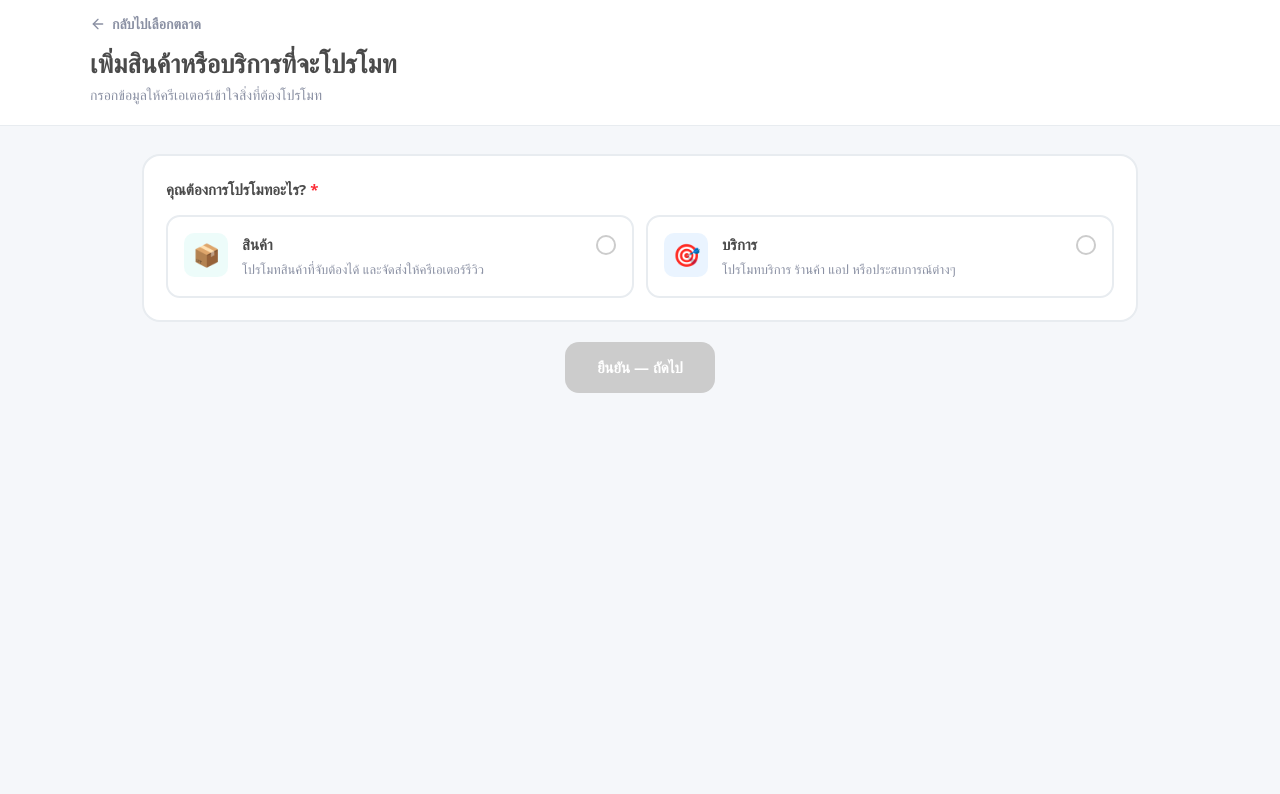
Scenario: AddProductPage › CTA is disabled during upload
Click the button "สินค้า".
click(206, 254)  # box [166,214,634,298]
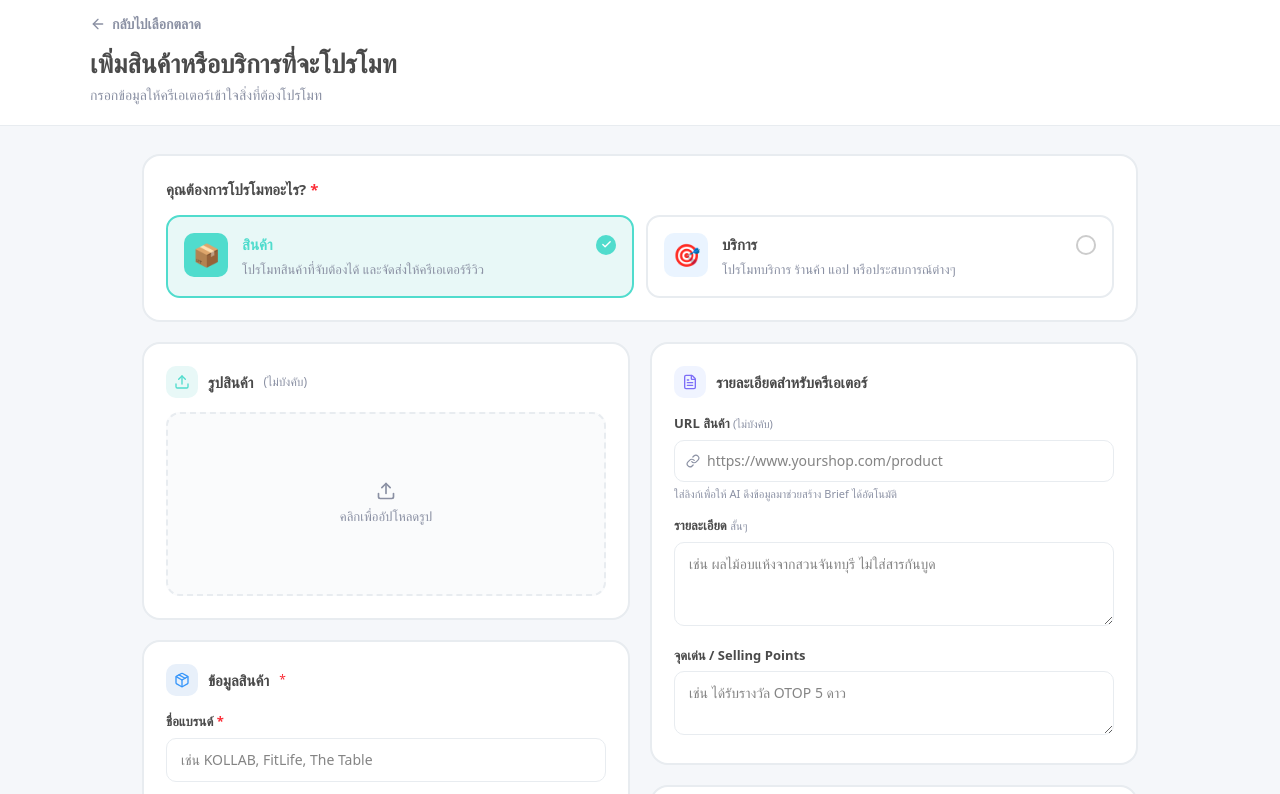
Type "My Brand" into the field with placeholder "เช่น KOLLAB, FitLife, The Table".
click(386, 760); type("My Brand")  # box [166,738,606,782]
(page scrolled)
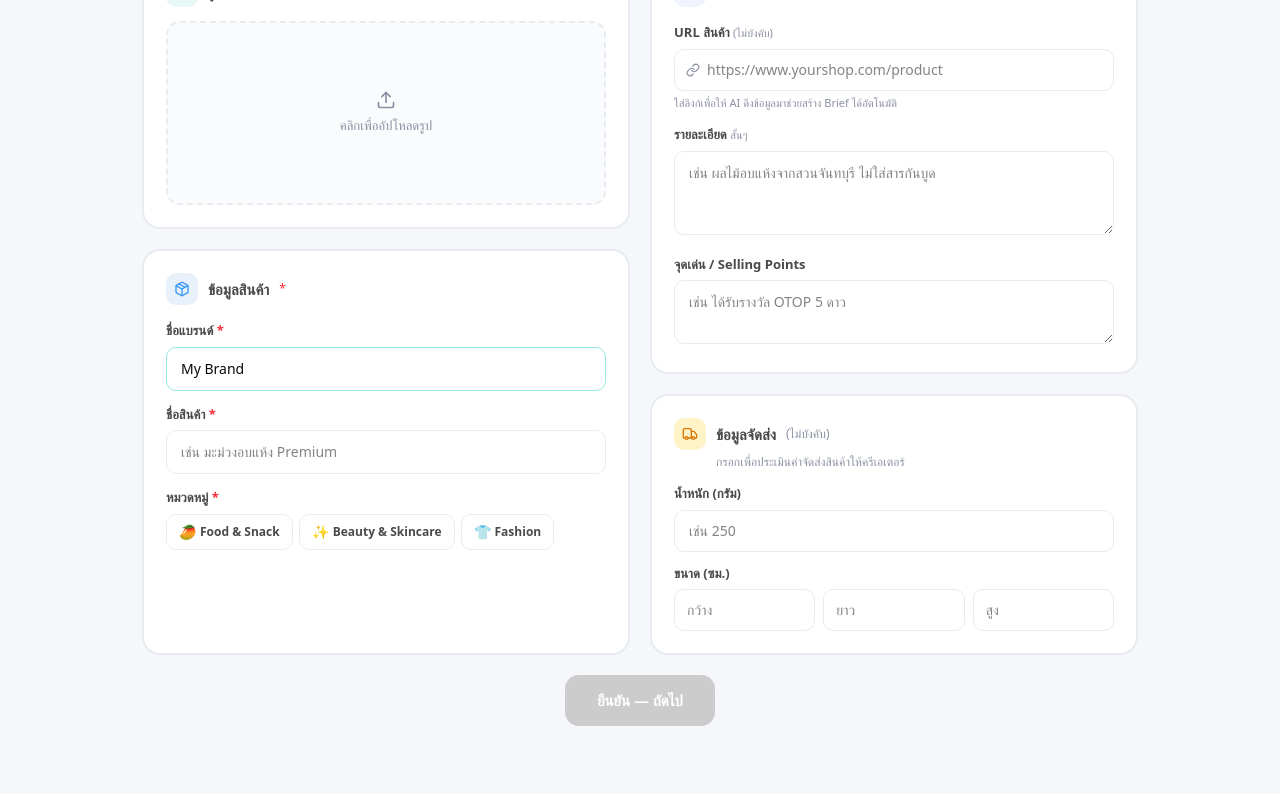
Type "My Product" into the field with placeholder "เช่น มะม่วงอบแห้ง Premium".
click(386, 452); type("My Product")  # box [166,430,606,474]
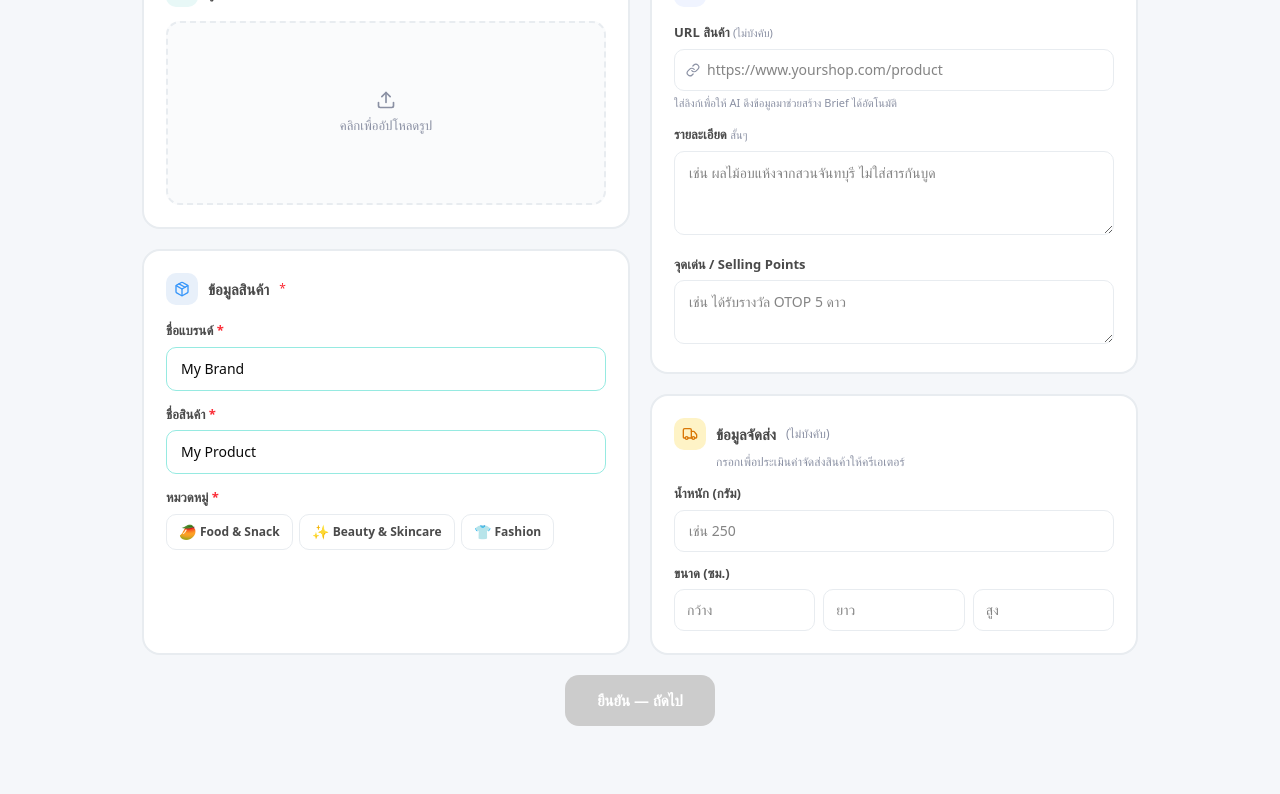
Click the button "🥭 Food & Snack".
click(229, 532)  # box [166,514,293,550]
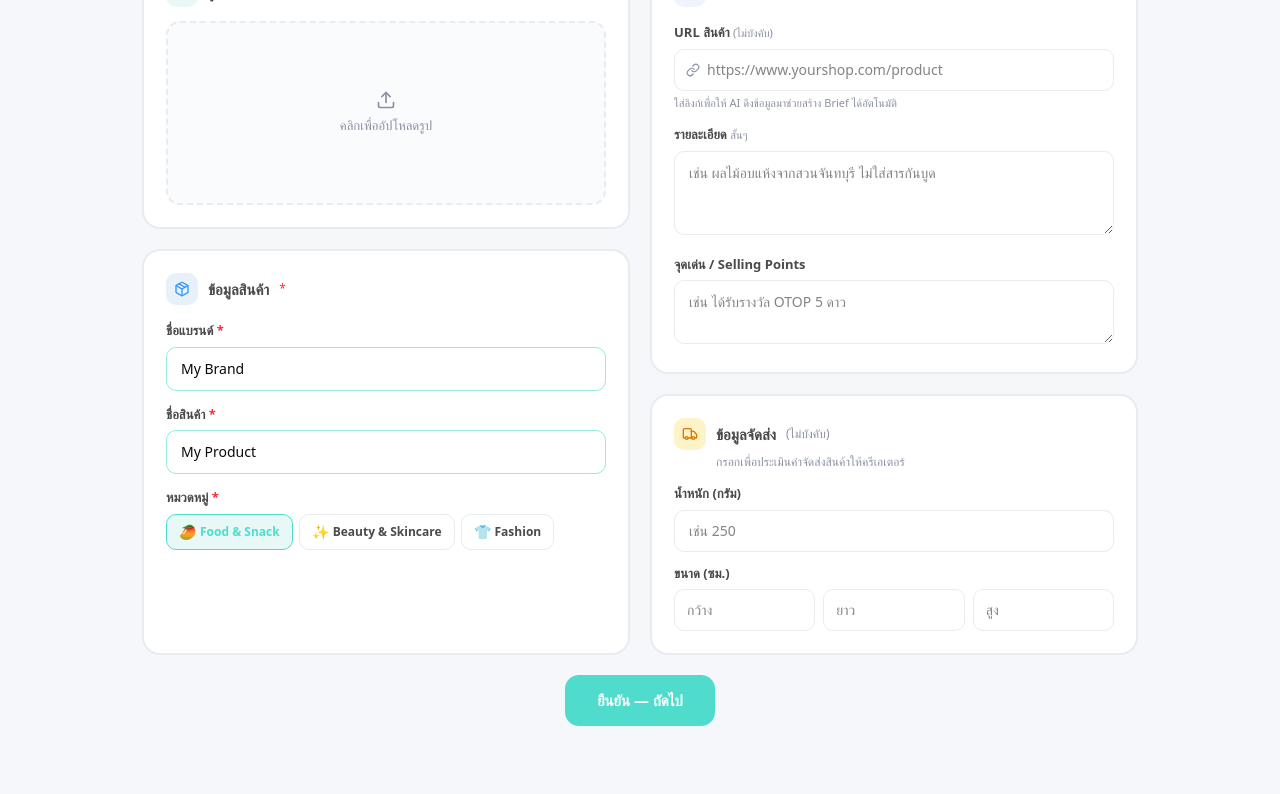
Click the button "ยืนยัน — ถัดไป".
click(640, 700)  # box [565,675,715,726]
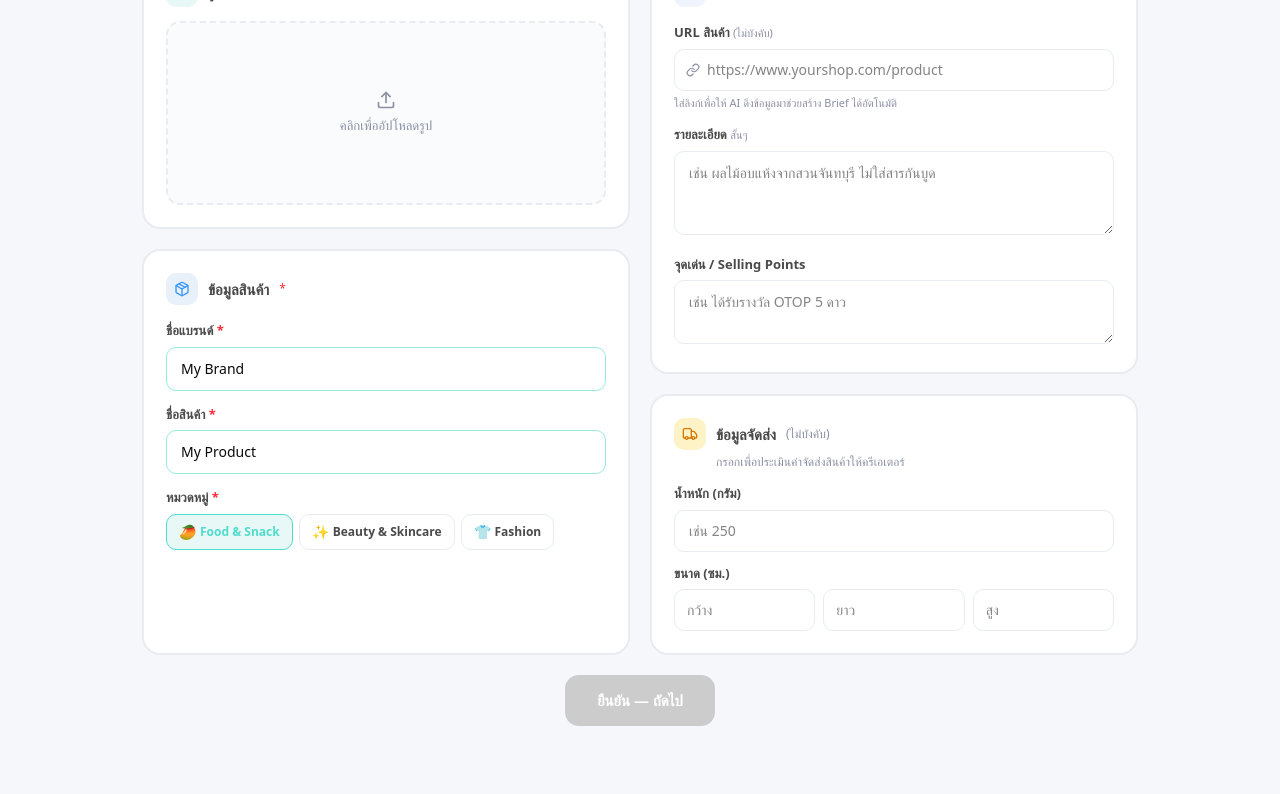
Expected: the button "ยืนยัน — ถัดไป" is disabled, [565,675,715,726]
